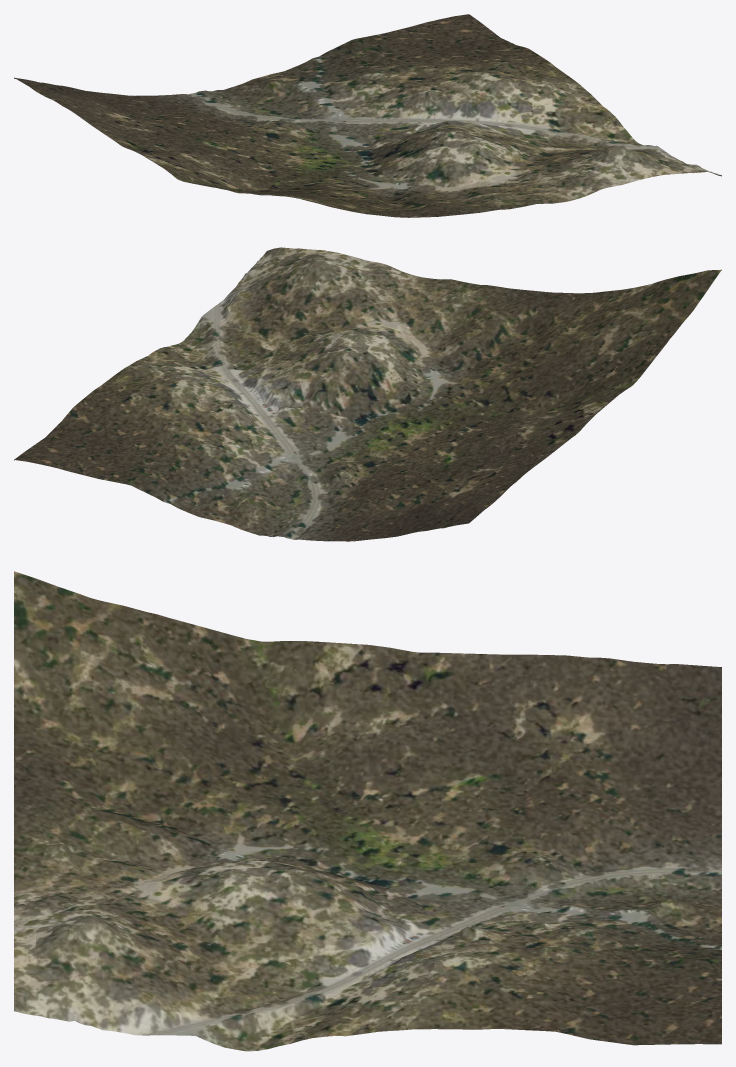
The picture shows the model from 3 angles, top to bottom: view 1: azimuth 30°, elevation 25°; view 2: azimuth 150°, elevation 25°; view 3: azimuth 270°, elevation 25°; orthographic projection. The views are drawn at different scales.
Size of the model in its own units: 500 by 139 by 481.
1 material, 1 textured.
